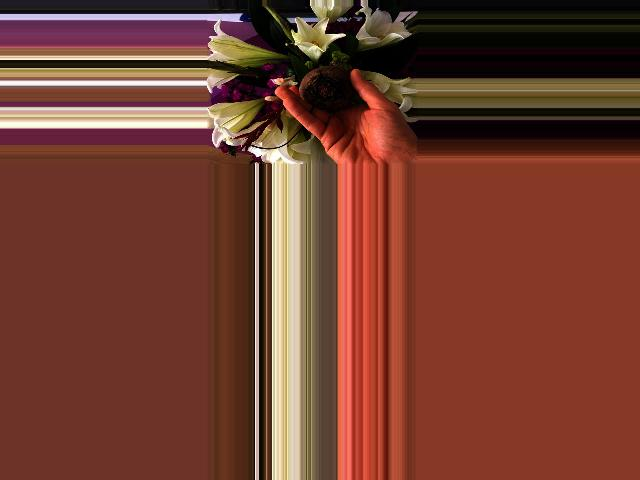beet: (297, 66, 354, 112)
